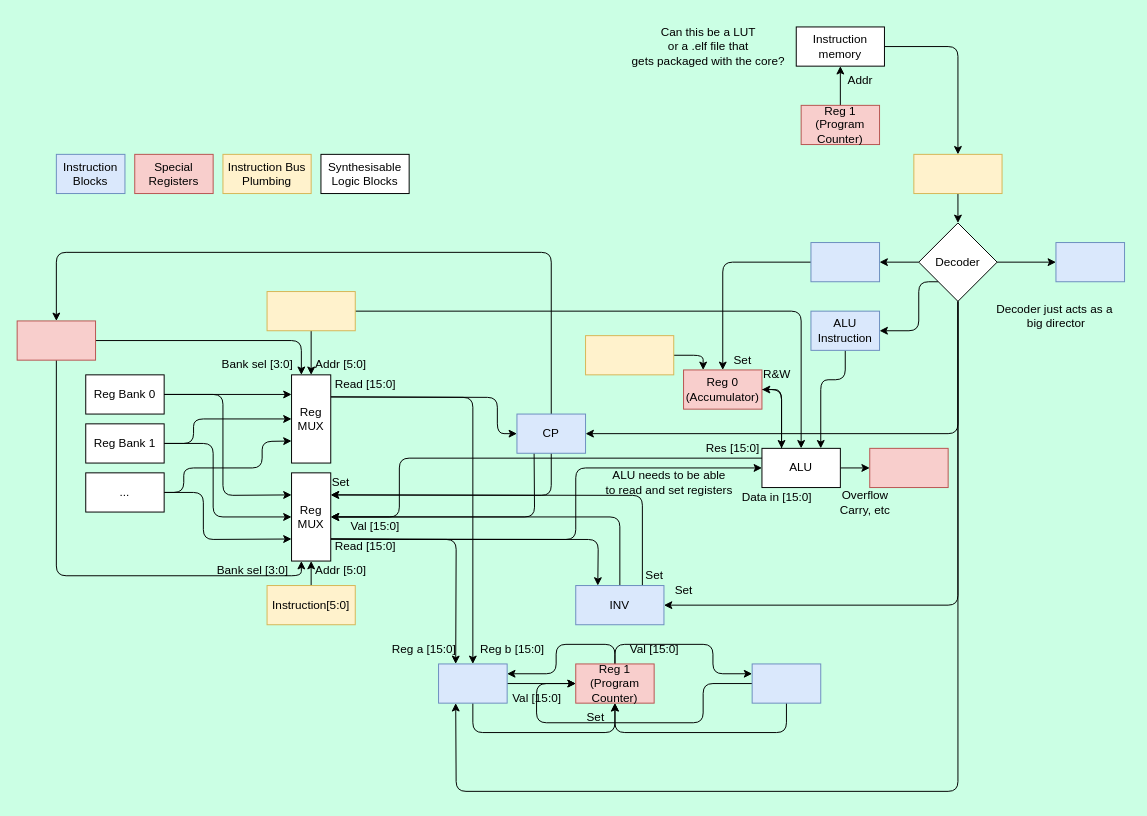
The diagram is 1147 pixels wide and 816 high, and some of its shapes have lost their labels. The shapes that lost their labels are listed below. From the top down, each one's centre as x and y in pixels, then its label:
(x=957, y=173): Instruction
(x=845, y=262): IMM
(x=1090, y=262): NOOP
(x=310, y=311): Instruction[11:6]
(x=56, y=340): Reg 2 (Bank Sel)
(x=629, y=355): Instruction[11:0]
(x=908, y=467): Reg 3 (CPU Flags)
(x=472, y=683): SUBBNZ
(x=786, y=683): JMP
